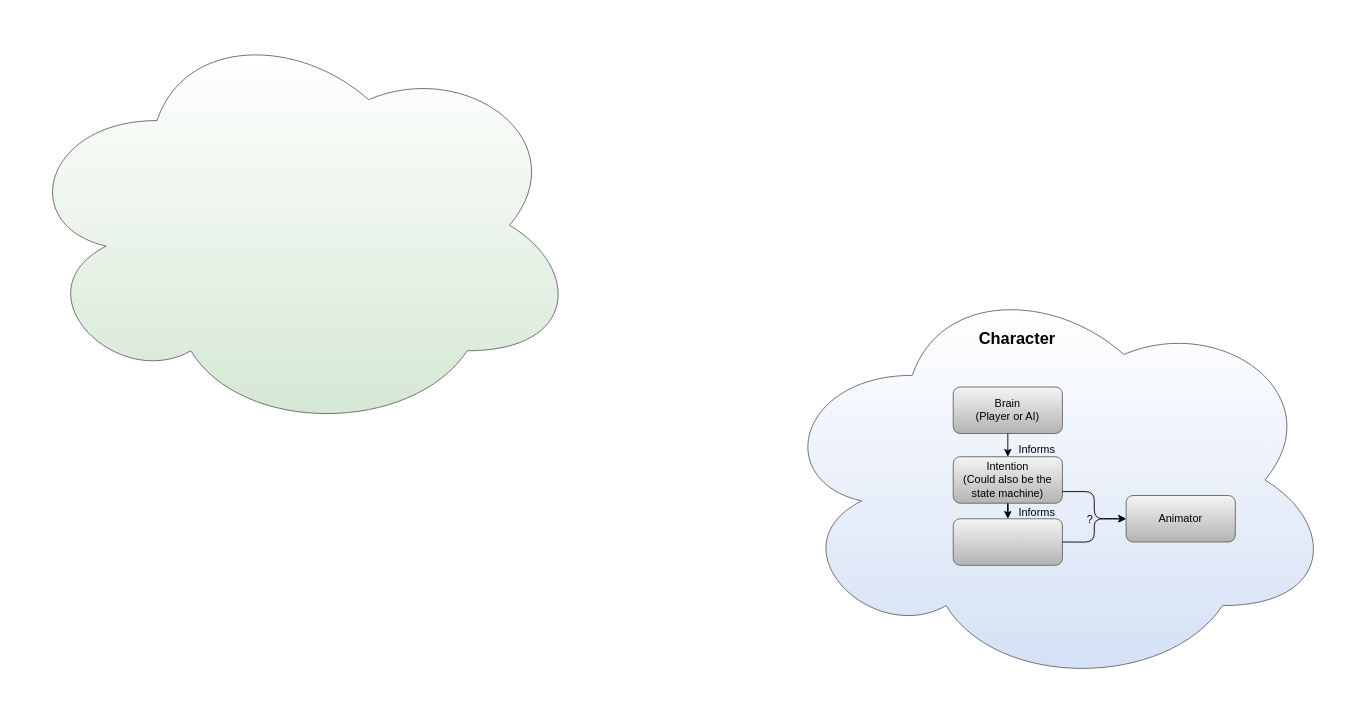
The diagram is 1351 pixels wide and 705 high, and some of its shapes have lost their labels. The box of each missing label's shape, as (x1, y1, x2, y2) in pixels:
Level: (15, 15, 580, 435)
Movement Motor: (952, 518, 1062, 565)
